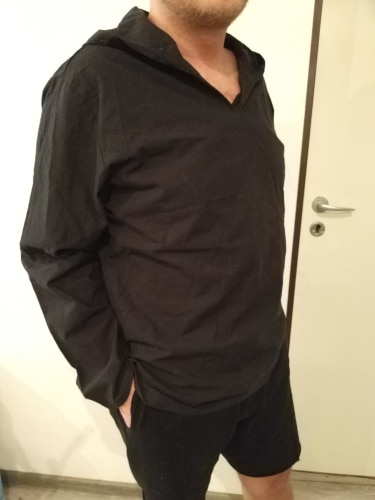shirts: (28, 12, 288, 400)
